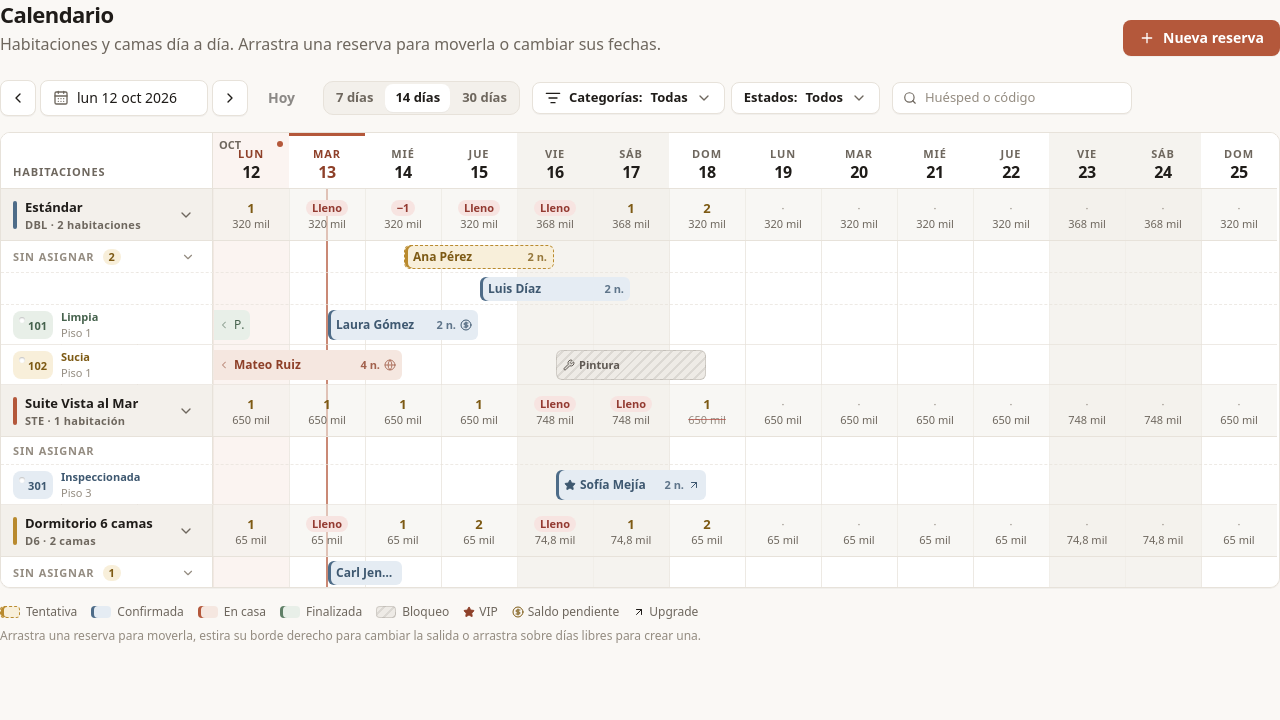
booking side panel › checks a guest in and says where they are
Click the button "Laura Gómez 2 n." at (403, 325), box [328,310,478,340]
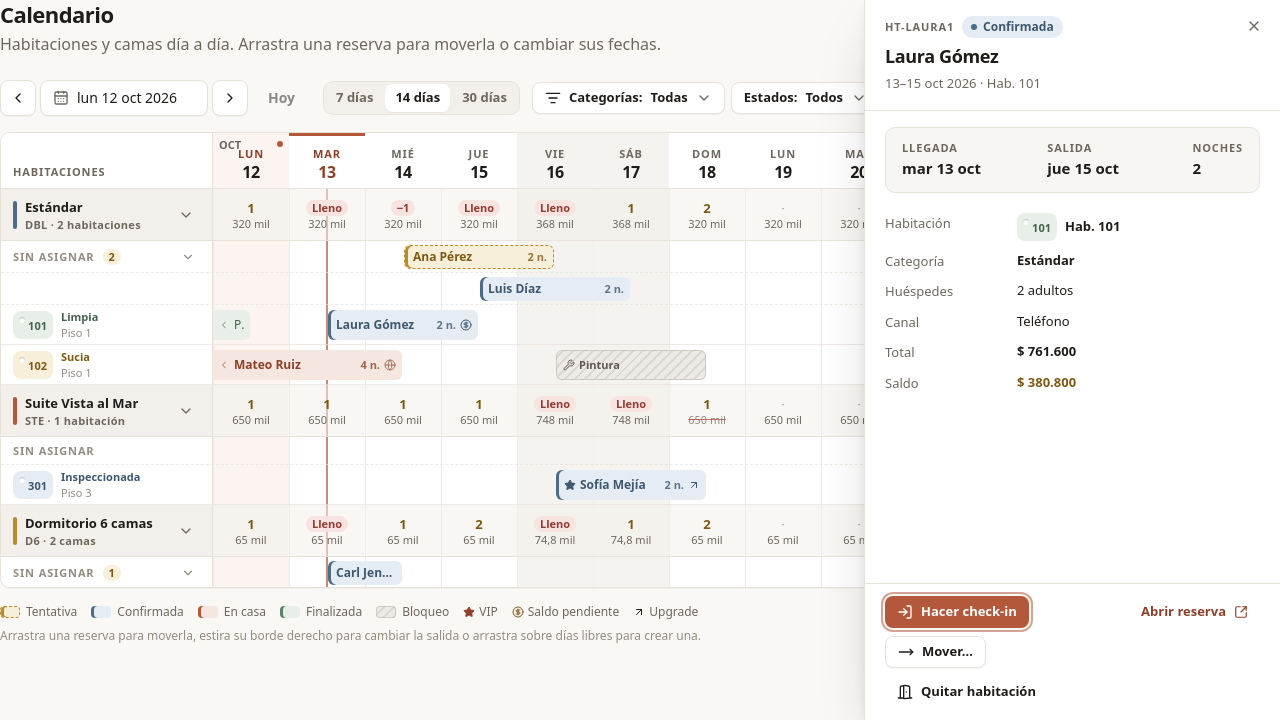
Click the button "Hacer check-in" at (957, 612), box [885,596,1029,628]
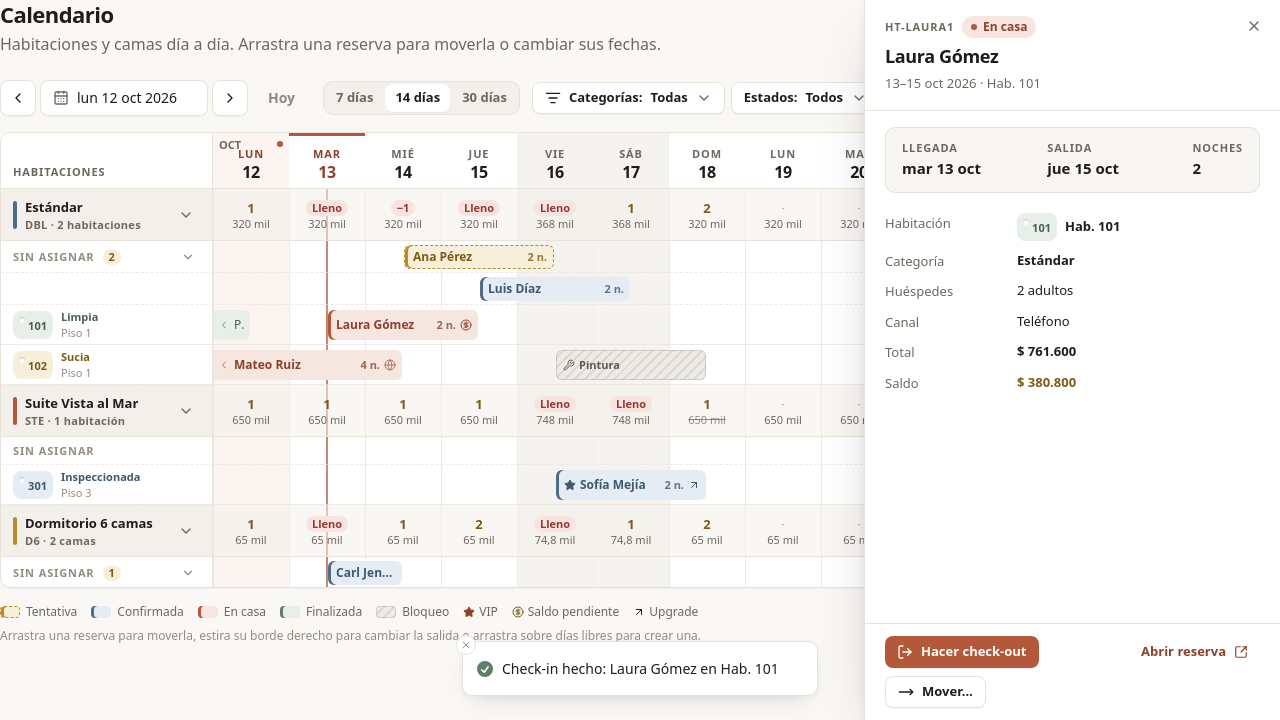
Expected: the button with aria-label "Laura Gómez · HT-LAURA1 · En casa" is shown, [328,310,478,340]
Result: the text "Check-in hecho: Laura Gómez en Hab. 101" is shown at [502,658,779,679]
